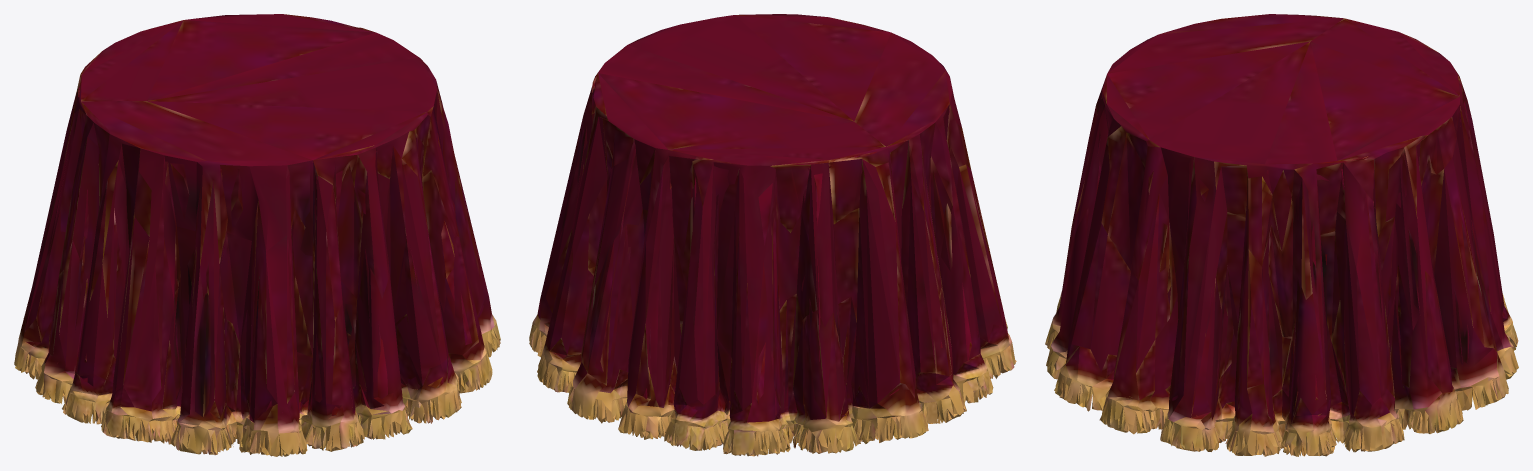
Rendered from seance-table.glb.
3 renders of one model, left to right at view 1: azimuth 30°, elevation 25°; view 2: azimuth 150°, elevation 25°; view 3: azimuth 270°, elevation 25°, orthographic.
Bounding box in the file's own units: 1.88 × 1.26 × 1.88.
1 material, 1 textured.
